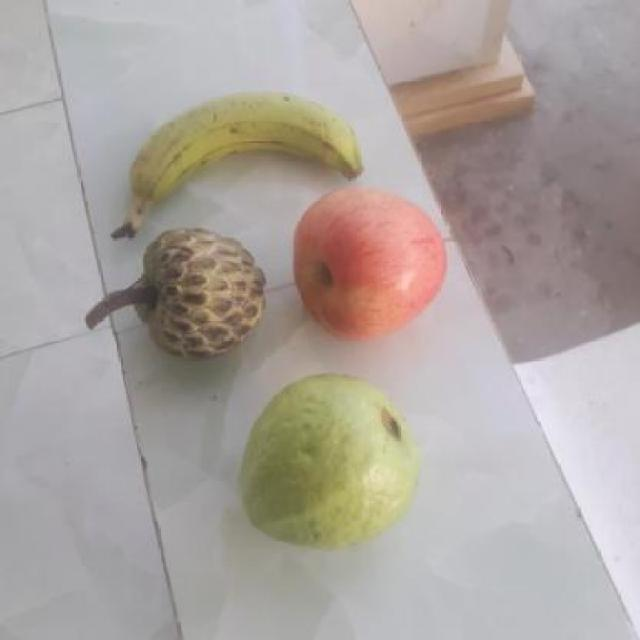apple: (288, 186, 450, 337)
banana: (119, 91, 381, 238)
guava: (243, 374, 426, 548)
sugar apple: (137, 227, 271, 361)
